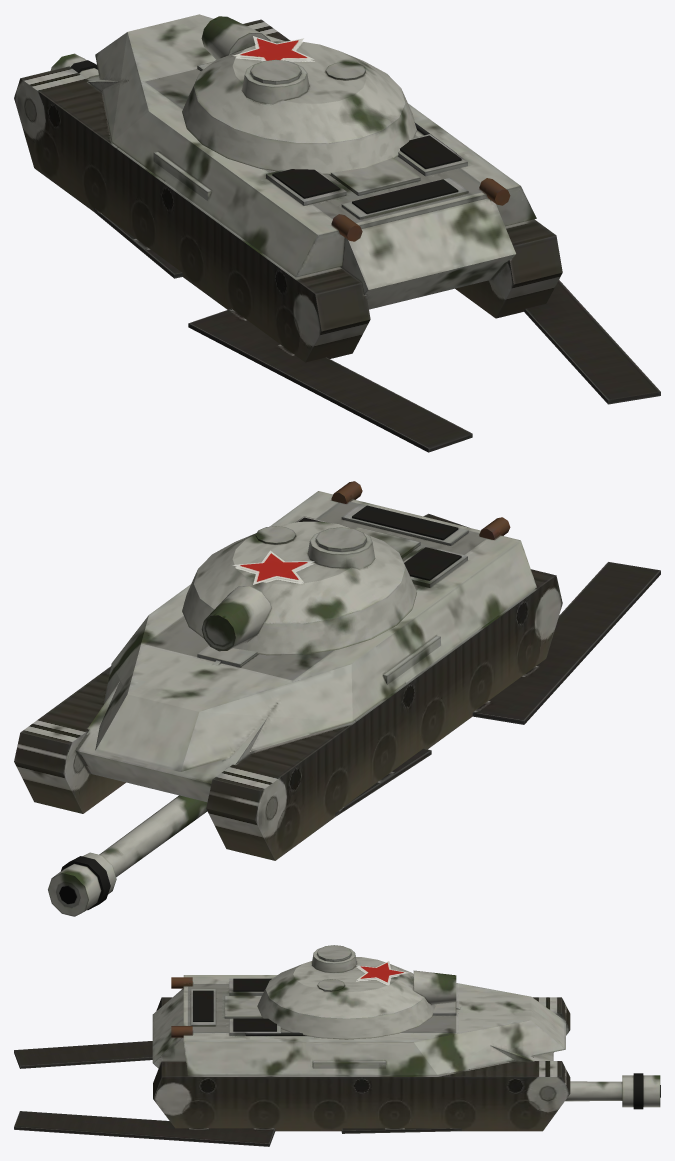
File: is3_winter.glb
The picture shows the model from 3 angles, top to bottom: view 1: azimuth 30°, elevation 25°; view 2: azimuth 150°, elevation 25°; view 3: azimuth 270°, elevation 25°; orthographic projection. The views are drawn at different scales.
Parts seen in each view (by area): view 1: hull_ok, turret_ok, hull_trackL, hull_trackR, gun_ok; view 2: hull_ok, turret_ok, hull_trackL, gun_ok; view 3: hull_ok, turret_ok, hull_trackR, hull_trackL, gun_ok.
Boxes of the visible parts, left/top/right/bottom form: hull_ok: left=14, top=14, right=562, bottom=362; turret_ok: left=182, top=16, right=416, bottom=174; hull_trackL: left=94, top=208, right=472, bottom=452; hull_trackR: left=524, top=280, right=660, bottom=404; gun_ok: left=50, top=53, right=98, bottom=78; hull_ok: left=14, top=481, right=562, bottom=860; turret_ok: left=182, top=521, right=416, bottom=655; hull_trackL: left=335, top=562, right=660, bottom=816; gun_ok: left=48, top=795, right=207, bottom=916; hull_ok: left=152, top=975, right=570, bottom=1131; turret_ok: left=257, top=945, right=456, bottom=1039; hull_trackR: left=14, top=1111, right=461, bottom=1146; hull_trackL: left=14, top=1041, right=152, bottom=1068; gun_ok: left=565, top=1073, right=660, bottom=1109.
Bounding box in the file's own units: 4.32 × 2.66 × 10.62.
11 materials, 11 textured.
